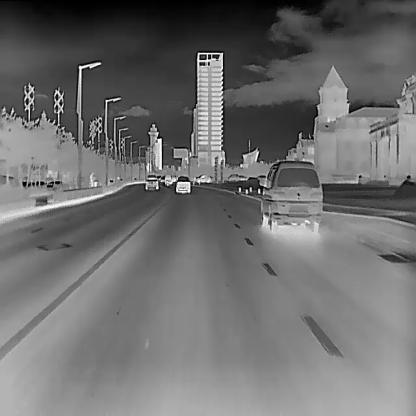car: (256, 160, 323, 232), (175, 174, 189, 192), (144, 174, 158, 189), (196, 173, 211, 183), (164, 172, 172, 184)
